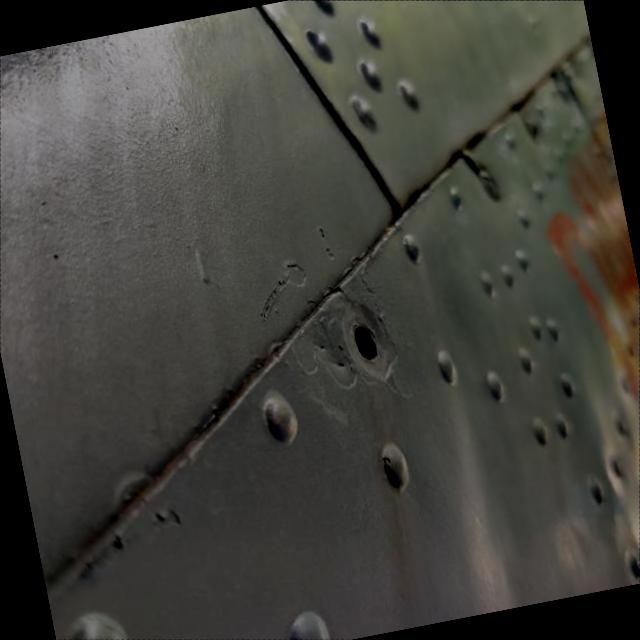Missing Fastener: (349, 314, 390, 372)
